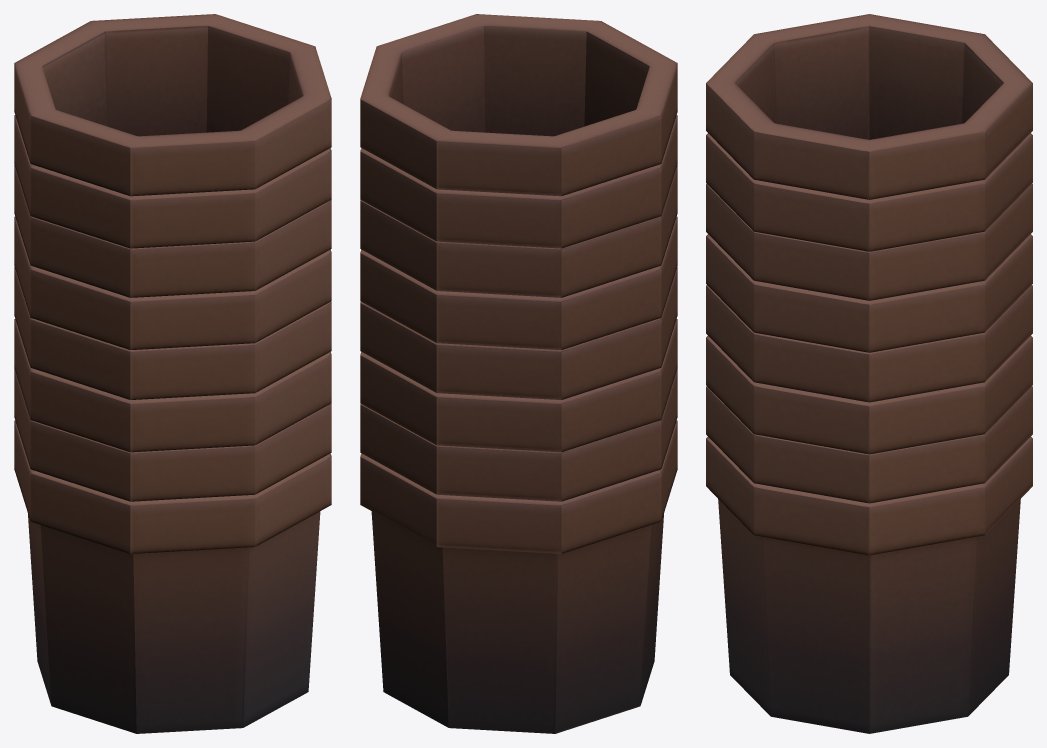
File: potstack01.fbx
The picture shows the model from 3 angles, left to right: view 1: azimuth 30°, elevation 25°; view 2: azimuth 150°, elevation 25°; view 3: azimuth 270°, elevation 25°; orthographic projection.
Visible parts, largest first — view 1: pot01; view 2: pot01; view 3: pot01.
Part boxes in pixels (x1=…): pot01: x1=14, y1=14, x2=331, y2=733; pot01: x1=360, y1=14, x2=677, y2=733; pot01: x1=706, y1=14, x2=1032, y2=733.
Size of the model in its own units: 0.4968 by 0.4968 by 0.9929.
1 material, 1 textured.
